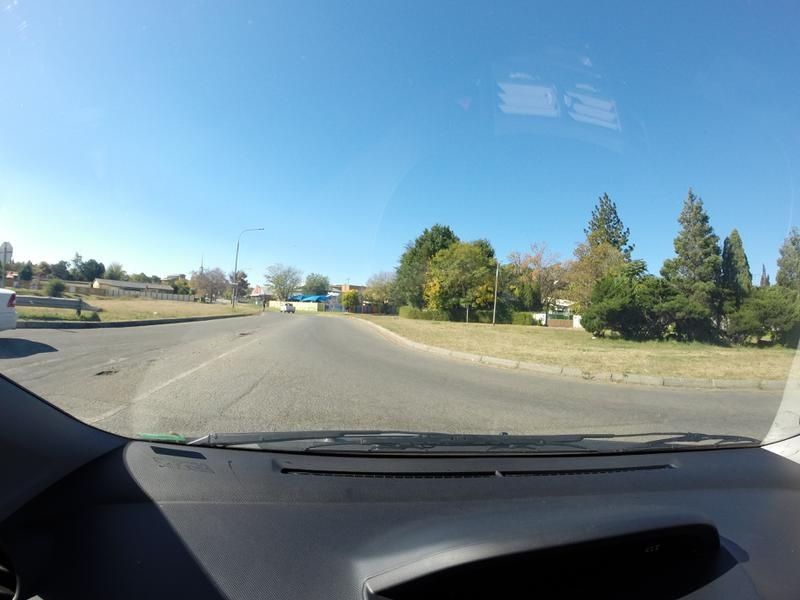pothole: (229, 324, 257, 343), (90, 366, 119, 380)
